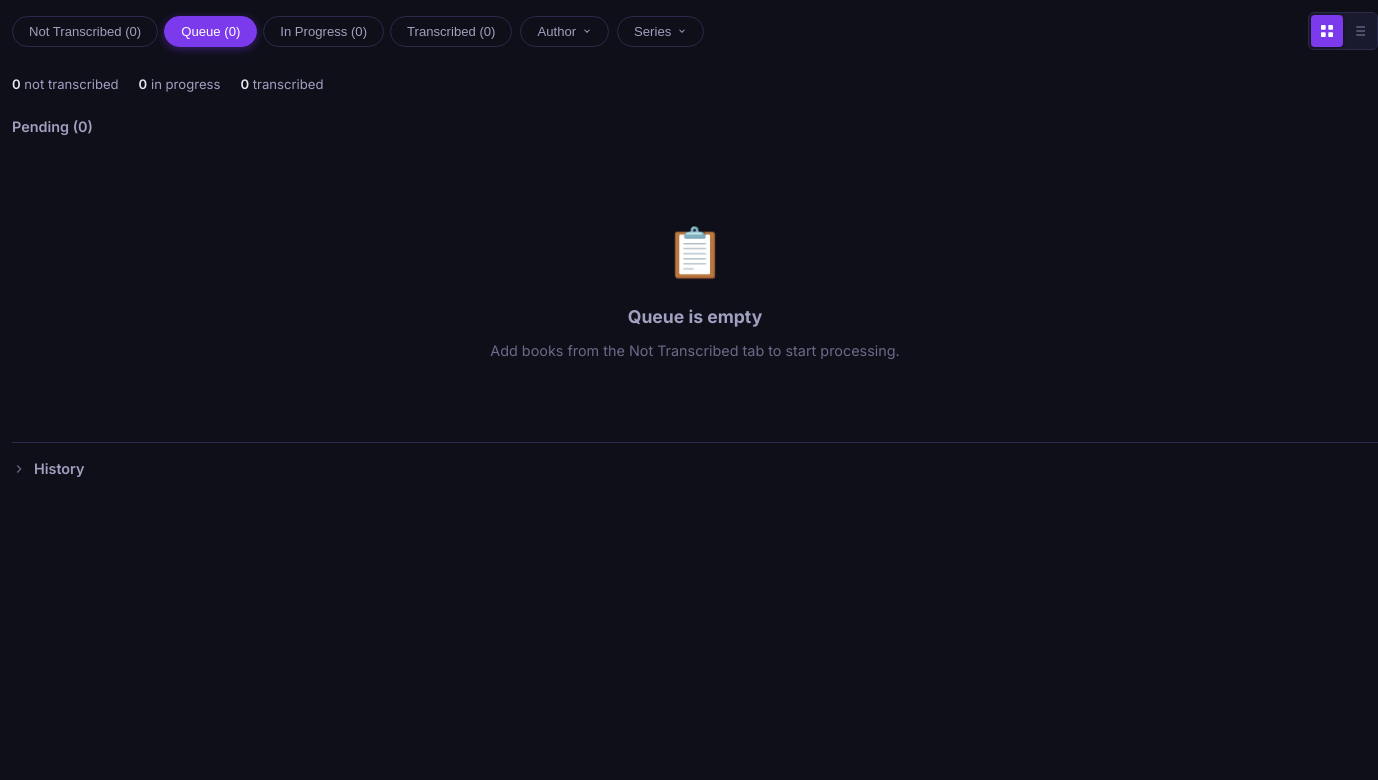
Test: Retry on the Queue tab history (issue #247) › offers Retry on a cancelled row too
Click the element with class "transcription-history-toggle".
click(695, 468)  # box [12, 442, 1377, 494]
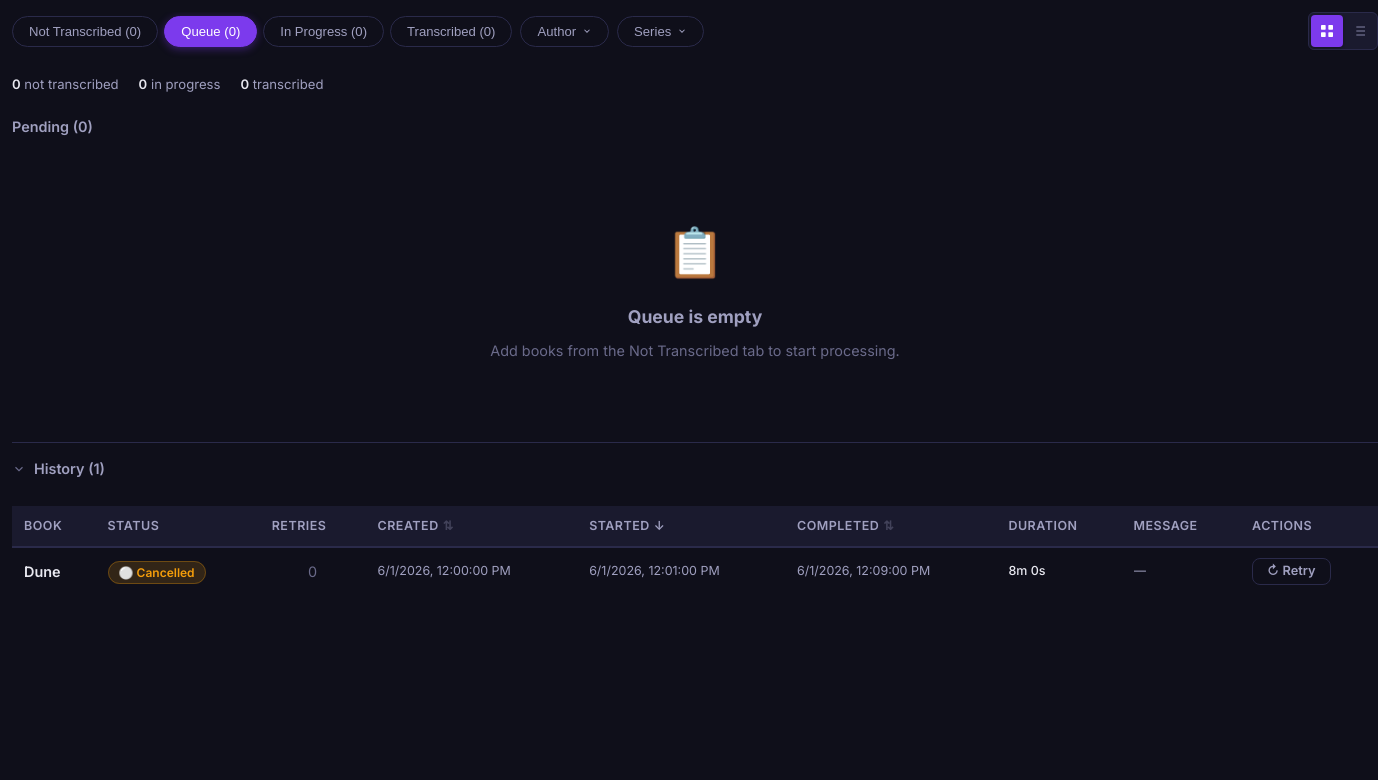
Result: the text "Dune" is shown at [24, 563, 60, 580]
Result: the button "↻ Retry" is shown at [1252, 558, 1330, 585]
